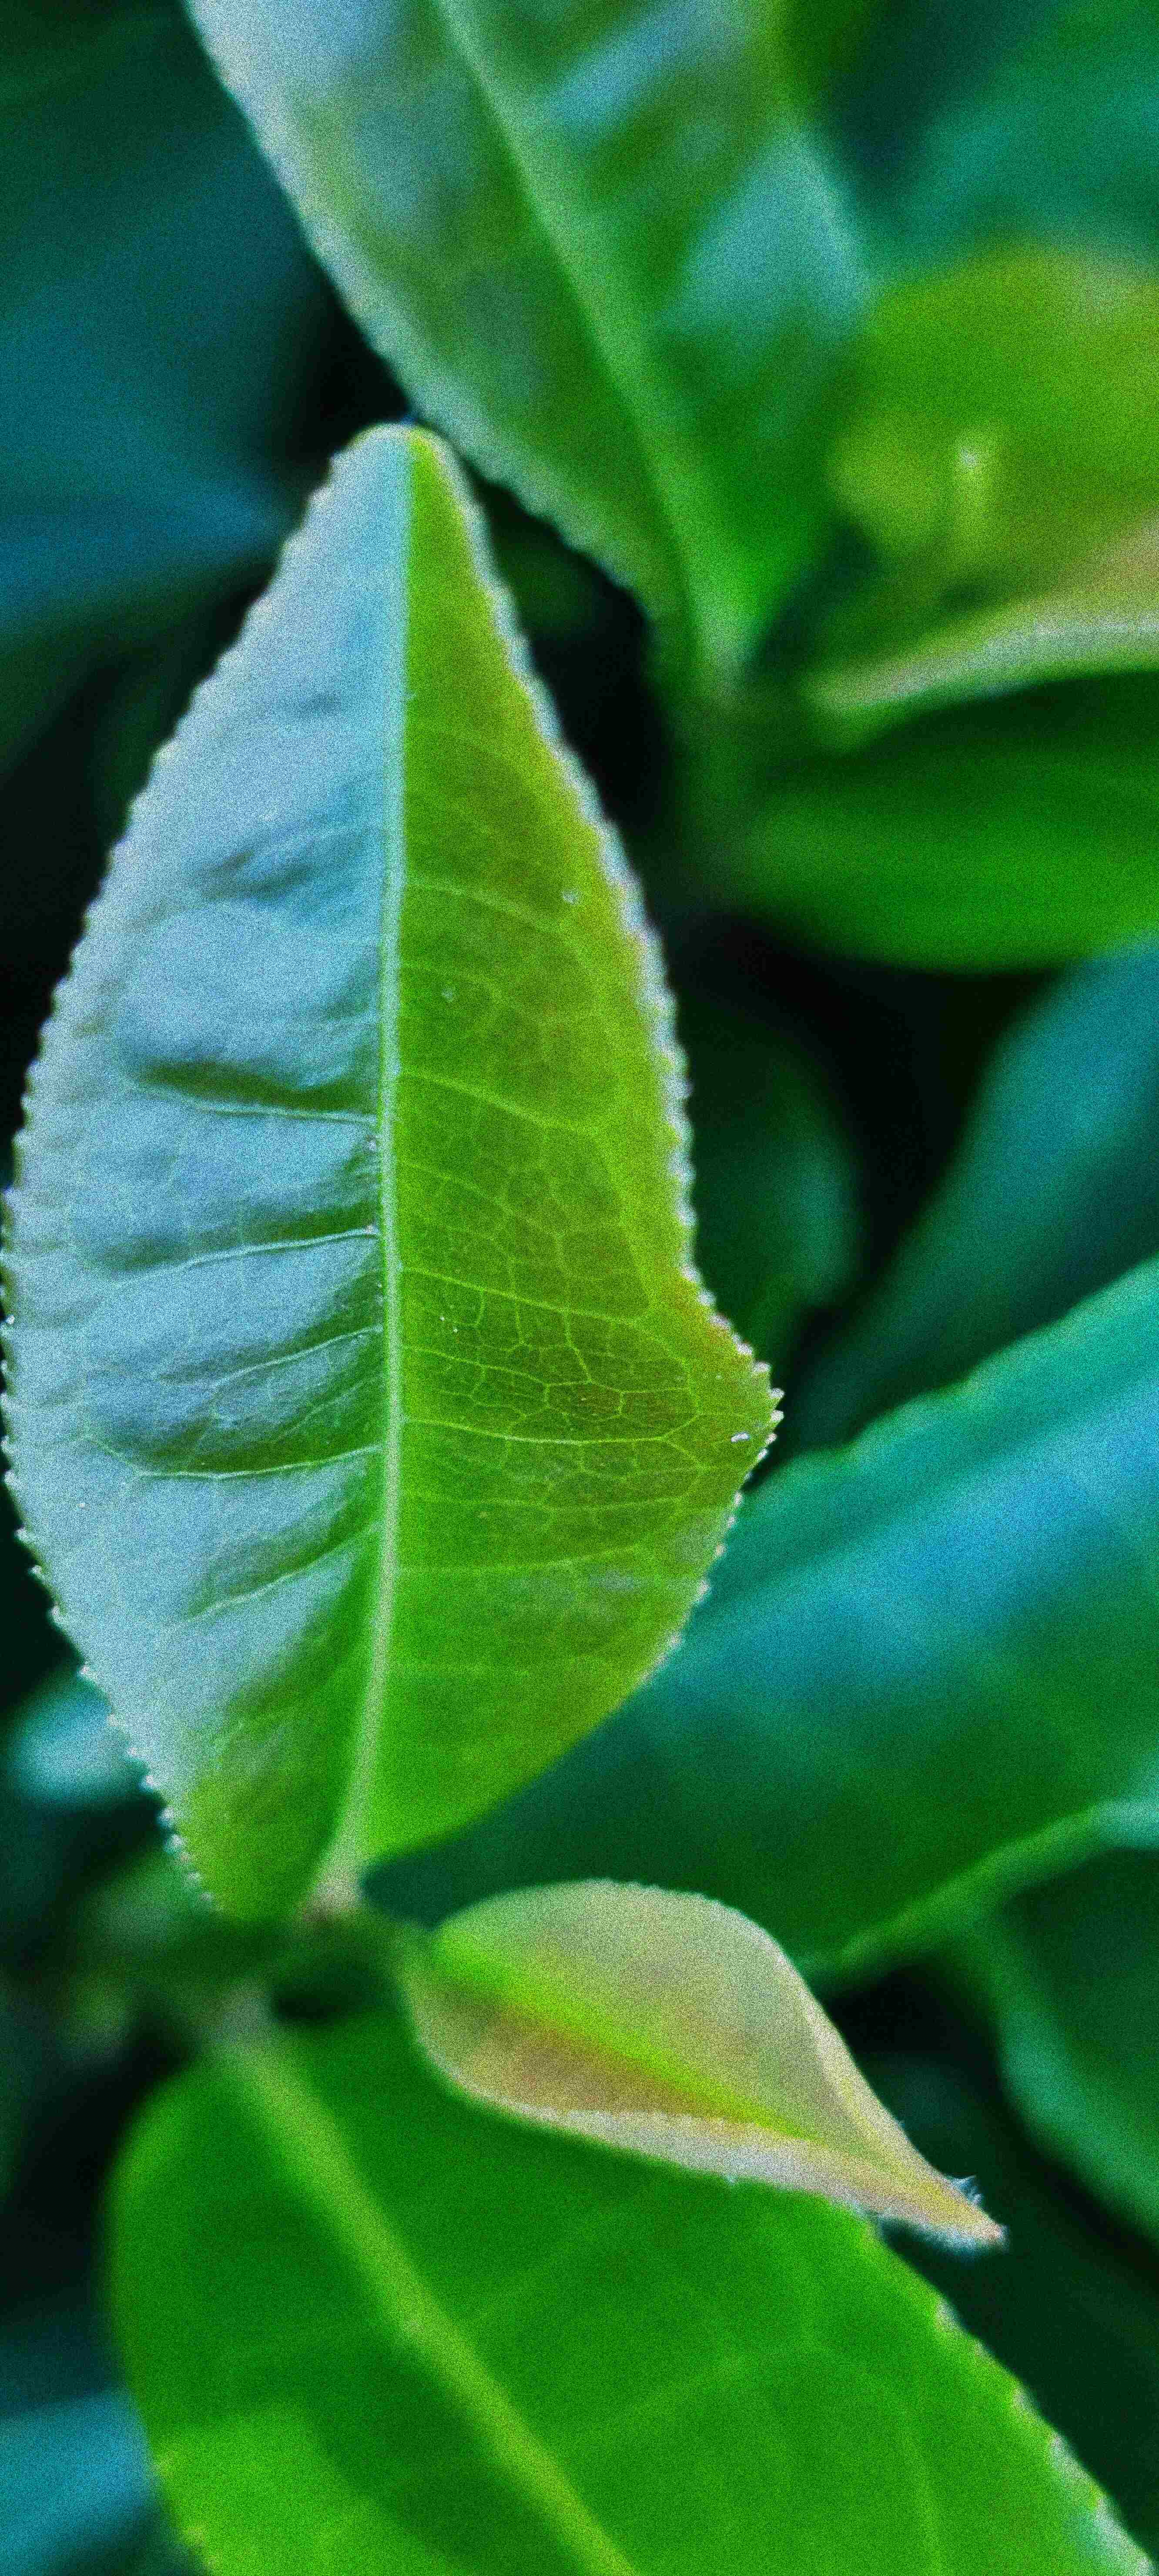healthy: (3, 419, 791, 1939), (90, 1998, 1154, 2573), (186, 8, 895, 657)
tanju_low: (405, 1870, 1011, 2254)
